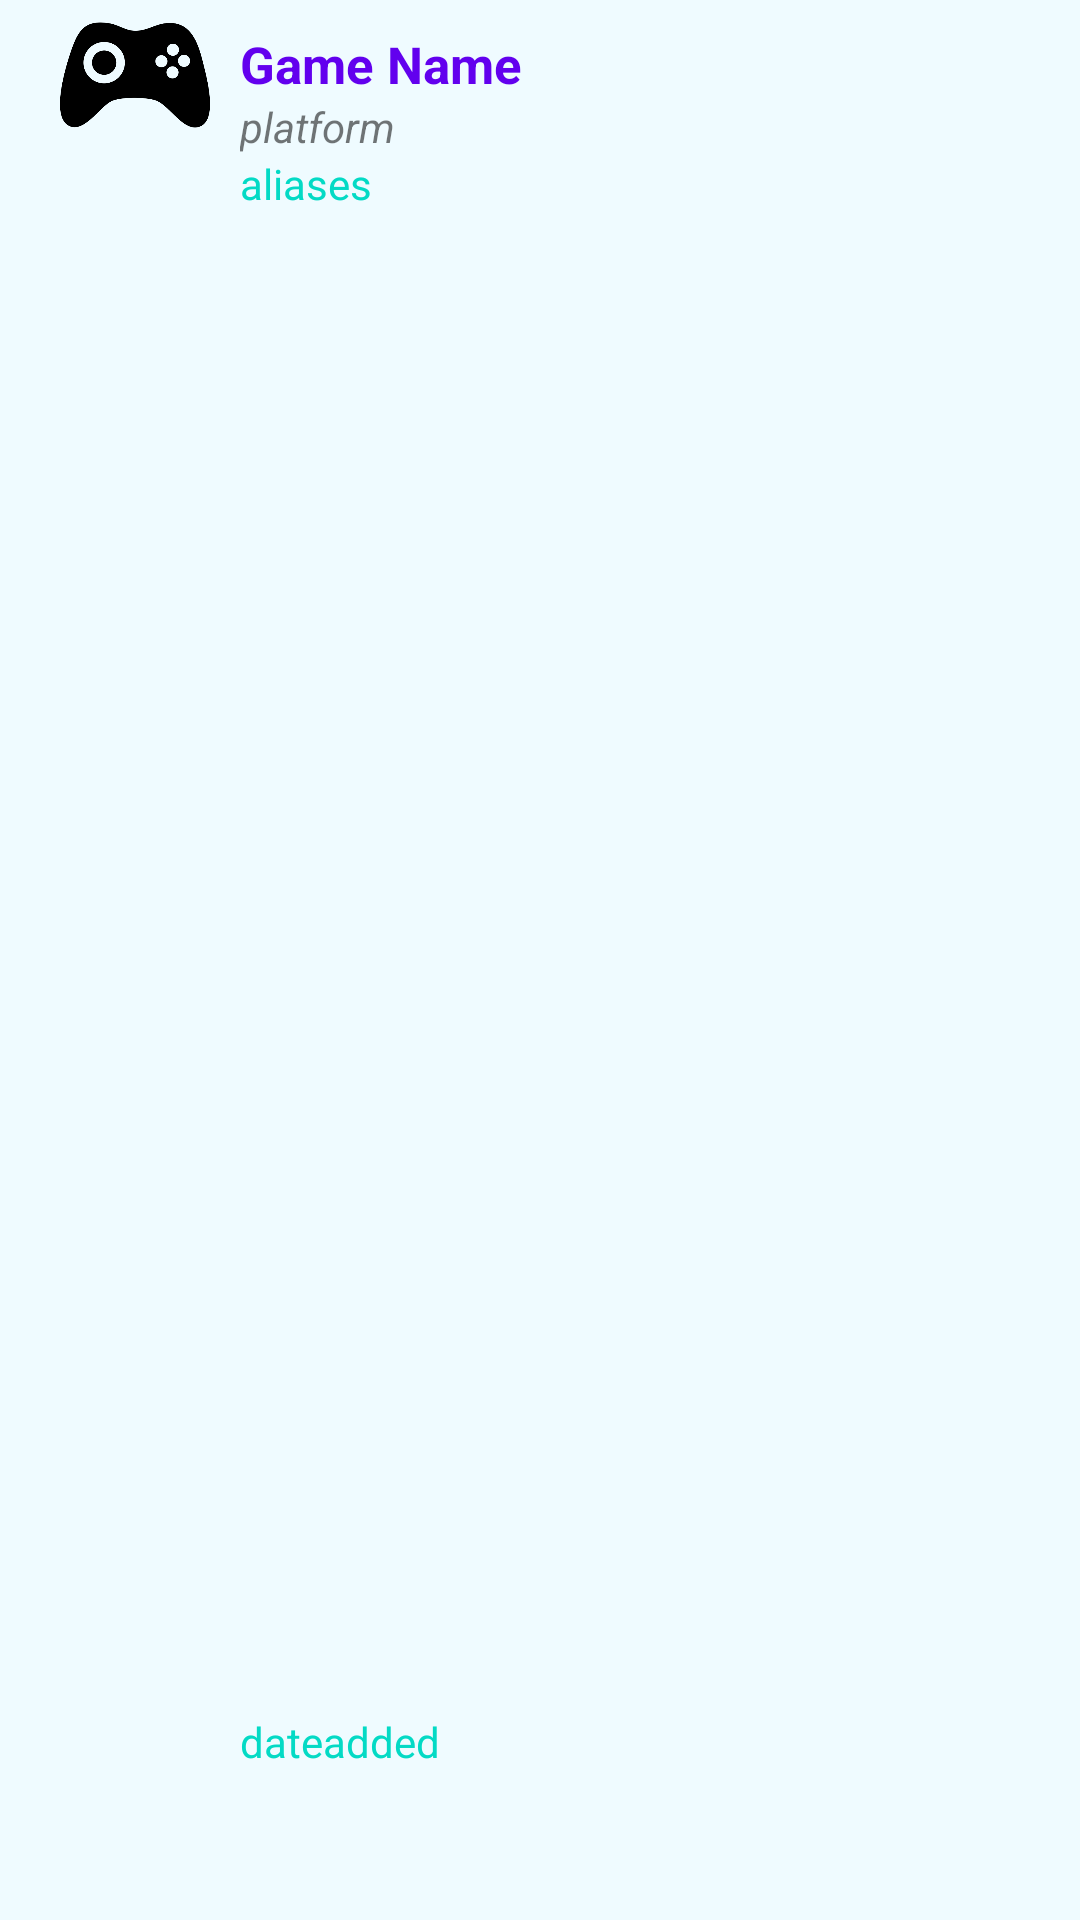

Screen size 1080*1920. Icon name, then its center in pixels as (x,y):
gamepad: (135,75)
